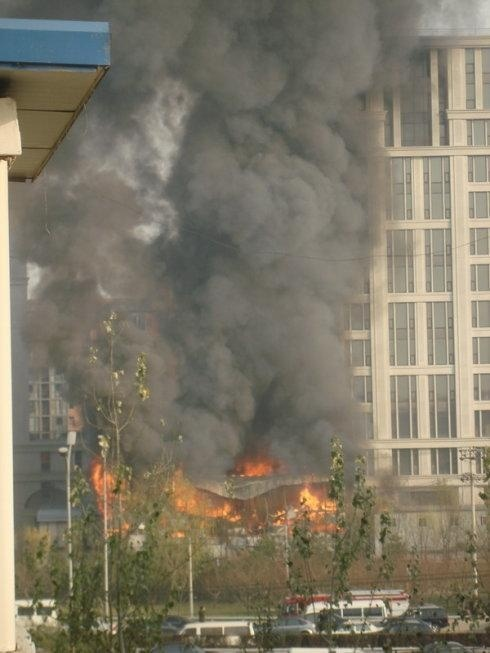fire: (90, 471, 348, 532)
